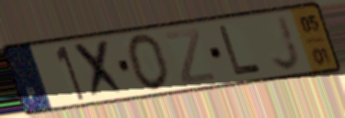1: (54, 44, 87, 103)
J: (269, 13, 304, 73)
L: (216, 23, 265, 78)
O: (125, 32, 172, 93)
X: (70, 37, 130, 102)
Z: (162, 26, 217, 87)
